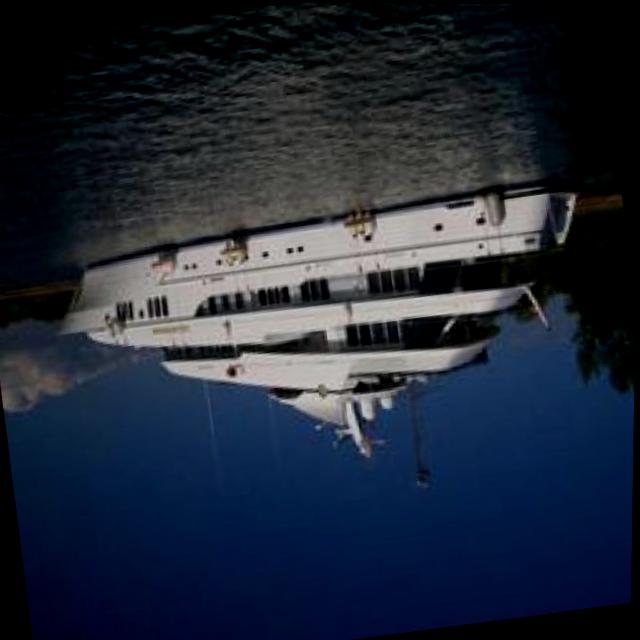ship2: (59, 180, 582, 489)
